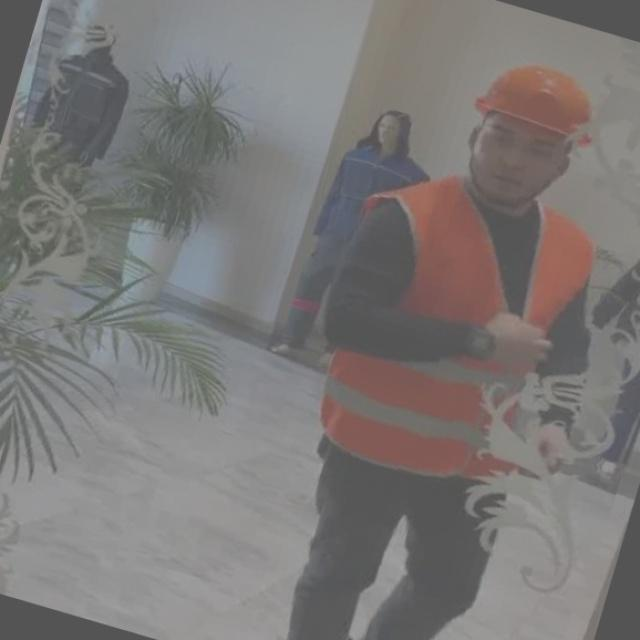helmet: (470, 66, 598, 142)
safety_vest: (318, 167, 598, 494)
